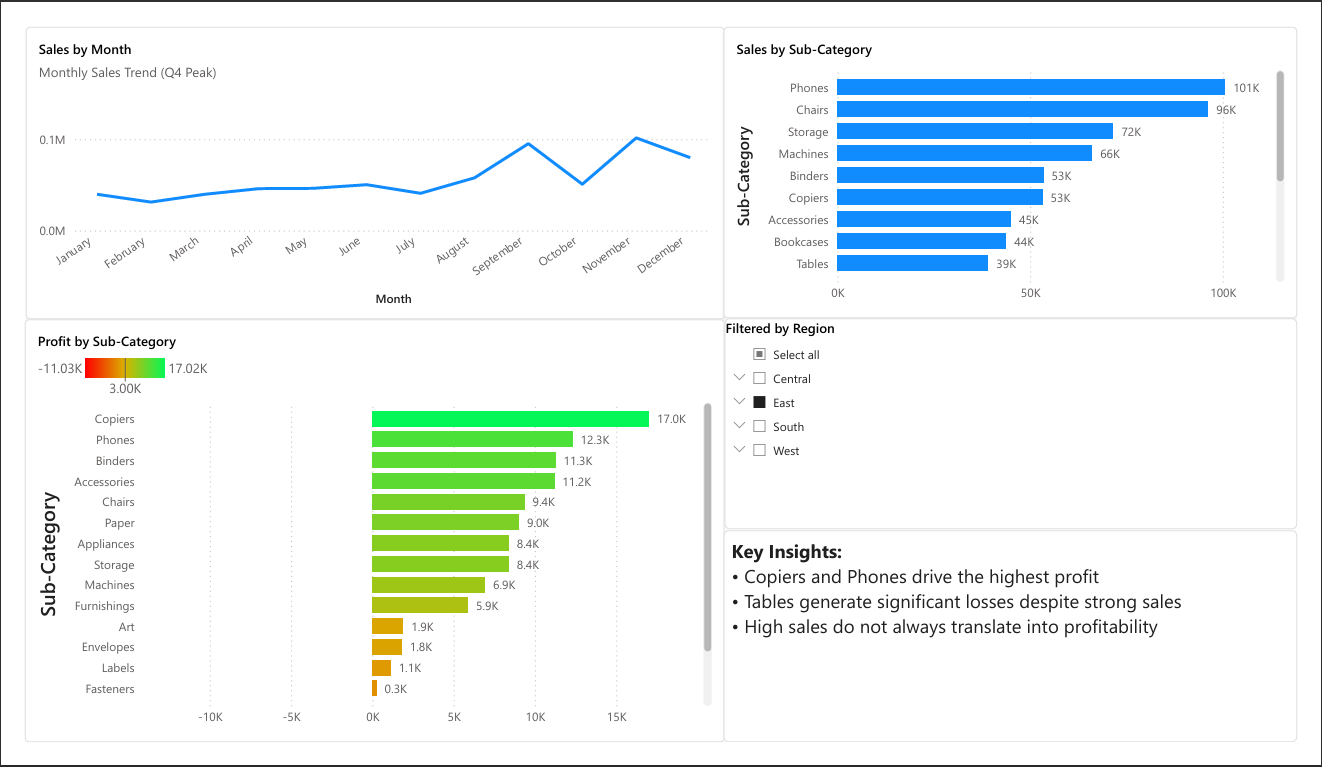

The page's visual inventory and layout, read from the dashboard file:
{"tool":"powerbi","page":{"name":"Page 2","canvas":[1280,720],"ordinal":1},"visuals":[{"type":"lineChart","fields":{"Y":["Sum(Sample - Superstore.Sales)"],"Category":["Sample - Superstore.Order Date.Variation.Date Hierarchy.Month"]},"box":[1.2,1.2,703.1,293.8],"z":0},{"type":"clusteredBarChart","title":"Sales by Sub-Category","fields":{"Category":["Sample - Superstore.Sub-Category"],"Y":["Sum(Sample - Superstore.Sales)"]},"box":[703.1,1.2,576.9,292.5],"z":1000},{"type":"clusteredBarChart","fields":{"Y":["Sum(Sample - Superstore.Profit)"],"Category":["Sample - Superstore.Sub-Category"]},"box":[0,295,704.3,425],"z":2000},{"type":"slicer","title":"Filtered by Region","fields":{"Values":["Sample - Superstore.Region","Sample - Superstore.Order Date.Variation.Date Hierarchy.Month"]},"box":[704.3,293.9,575.7,212.2],"z":3000},{"type":"textbox","box":[703.1,507.5,577.2,212.8],"z":4000}]}

Visuals, with their boxes on the page's 1280x720 design canvas (x1, y1, x2, y2). These are canvas units, not pixel positions in the 1322x767 screenshot, which may show the page scaled, cropped or inside an application window:
lineChart - Sum(Sample - Superstore.Sales) x Sample - Superstore.Order Date.Variation.Date Hierarchy.Month: rect(1, 1, 704, 295)
"Sales by Sub-Category" clusteredBarChart: rect(703, 1, 1280, 294)
clusteredBarChart - Sum(Sample - Superstore.Profit) x Sample - Superstore.Sub-Category: rect(0, 295, 704, 720)
"Filtered by Region" slicer: rect(704, 294, 1280, 506)
textbox: rect(703, 508, 1280, 720)
